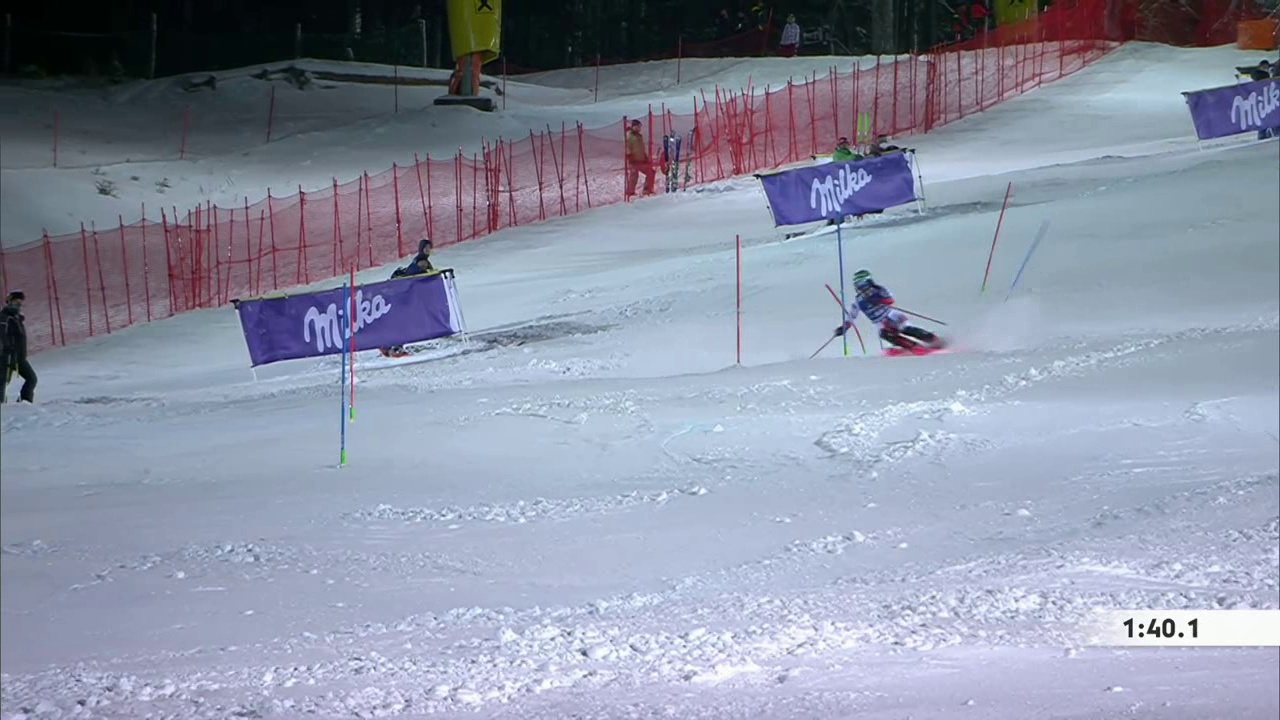milka: (226, 279, 465, 368), (778, 154, 912, 225), (1227, 81, 1279, 134)
raiffeisen: (467, 1, 498, 19)
